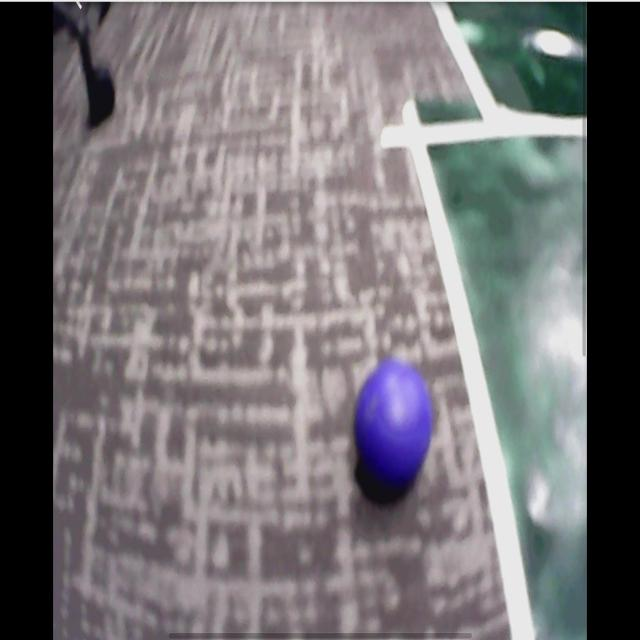ball: (358, 364, 431, 483)
